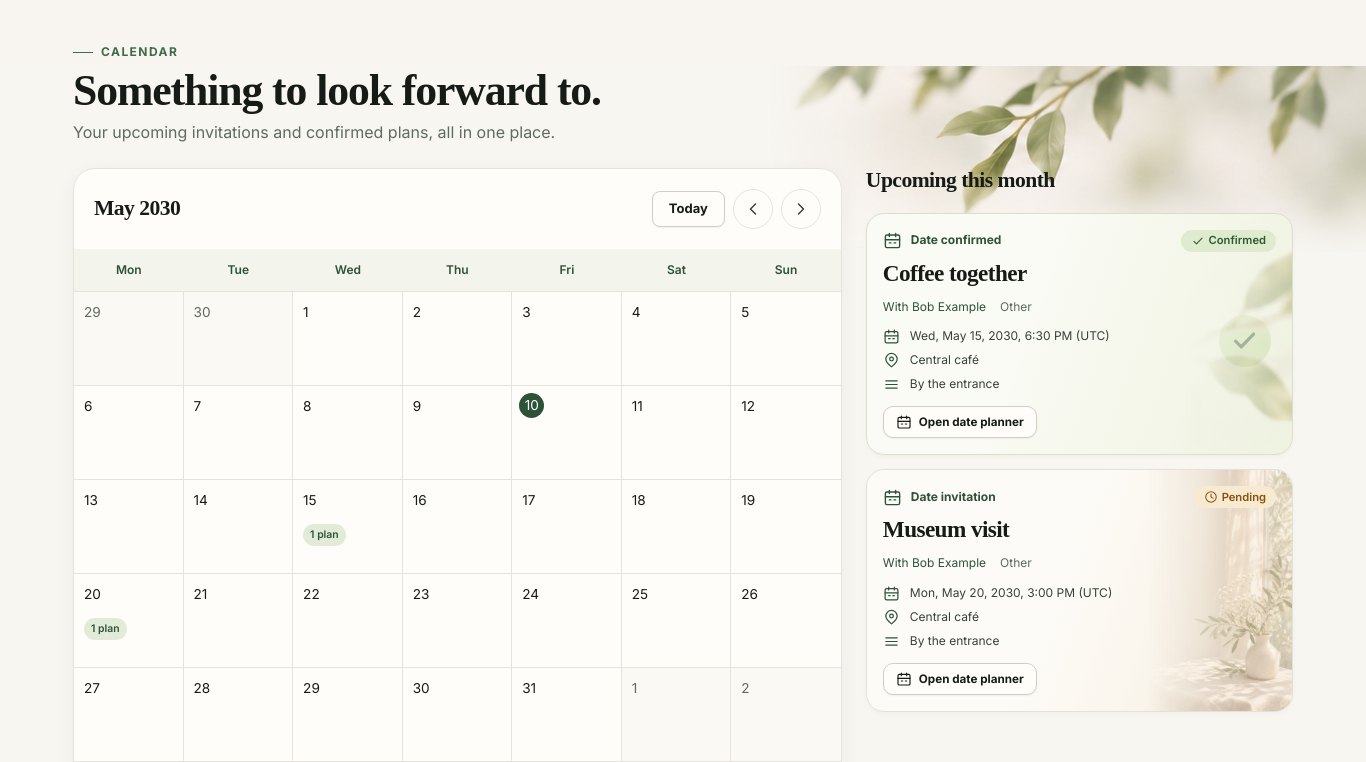
Scenario: calendar loads all pages, marks days and filters the month's plans
Expected: the heading "Coffee together" is shown, [883,260,1027,286]
Expected: the heading "Museum visit" is shown, [883,516,1009,542]
Click the button "15 1 plan" at (348, 526), box [293,480,403,574]
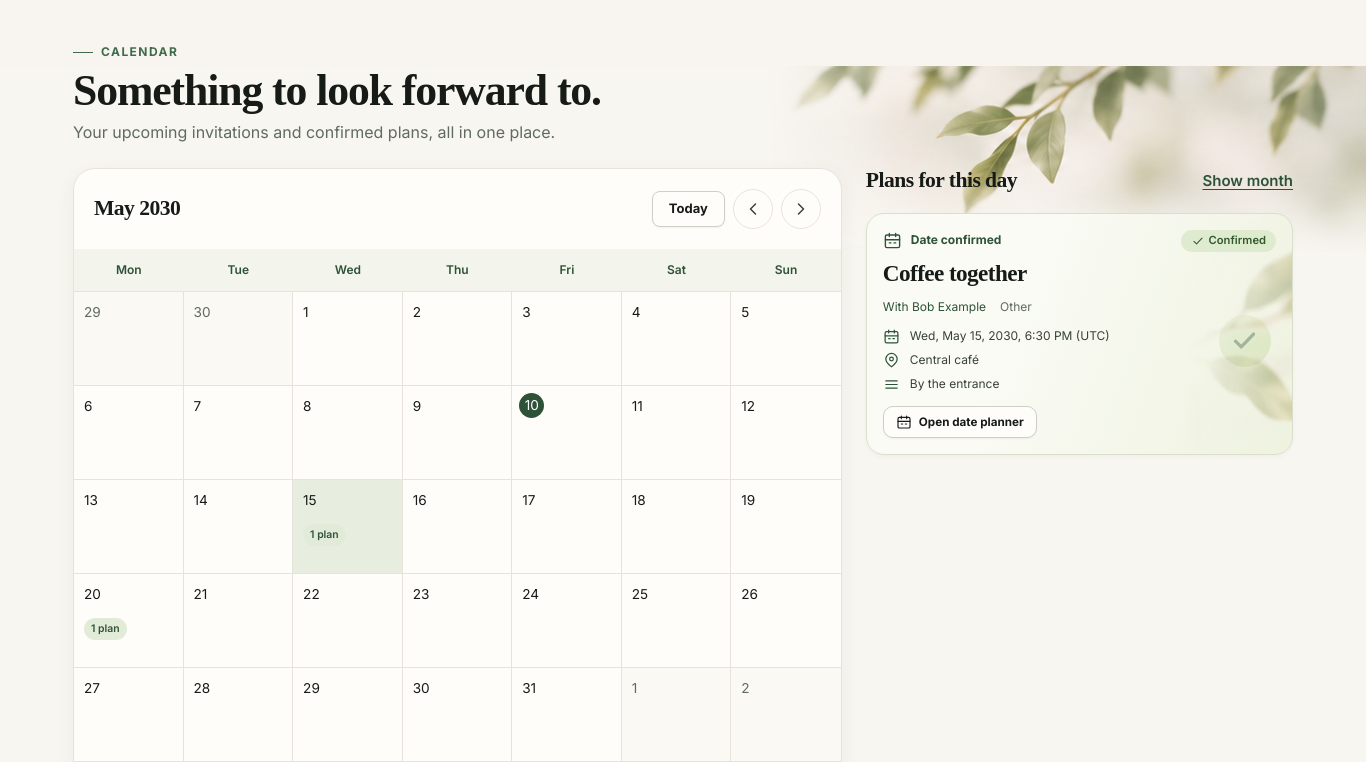
Expected: the heading "Coffee together" is shown, [883,260,1027,286]
Now the heading "Museum visit" is gone
Click the button "Show month" at (1248, 180), box [1202,169,1293,192]
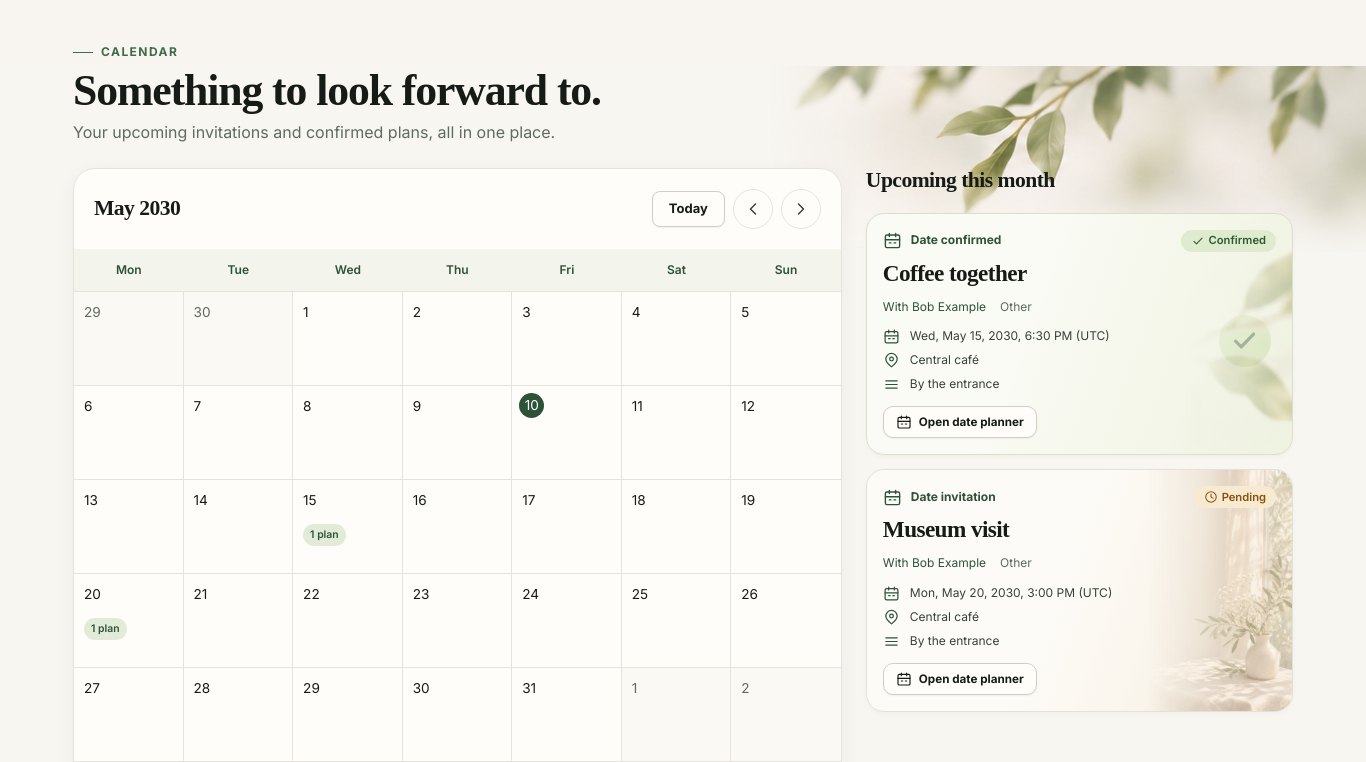
Now the heading "Museum visit" is shown, box [883,516,1009,542]
